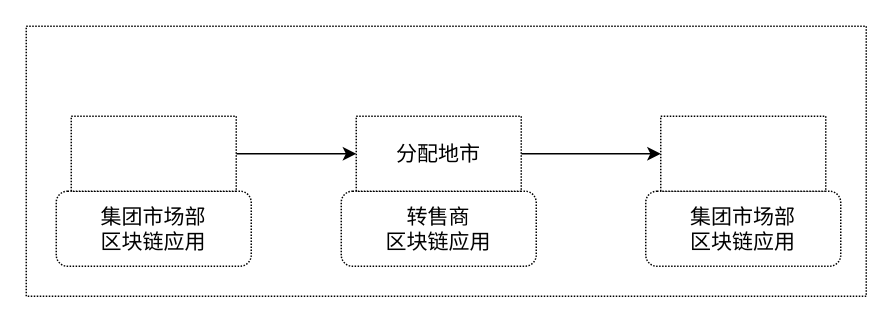
Image size: 893x323. Some labels were removed from this diagram. Each missing label, with the box of its shape:
创建号段 （支持单个、批量号段数据上链）: (70, 115, 236, 191)
确认地市: (659, 115, 826, 191)
